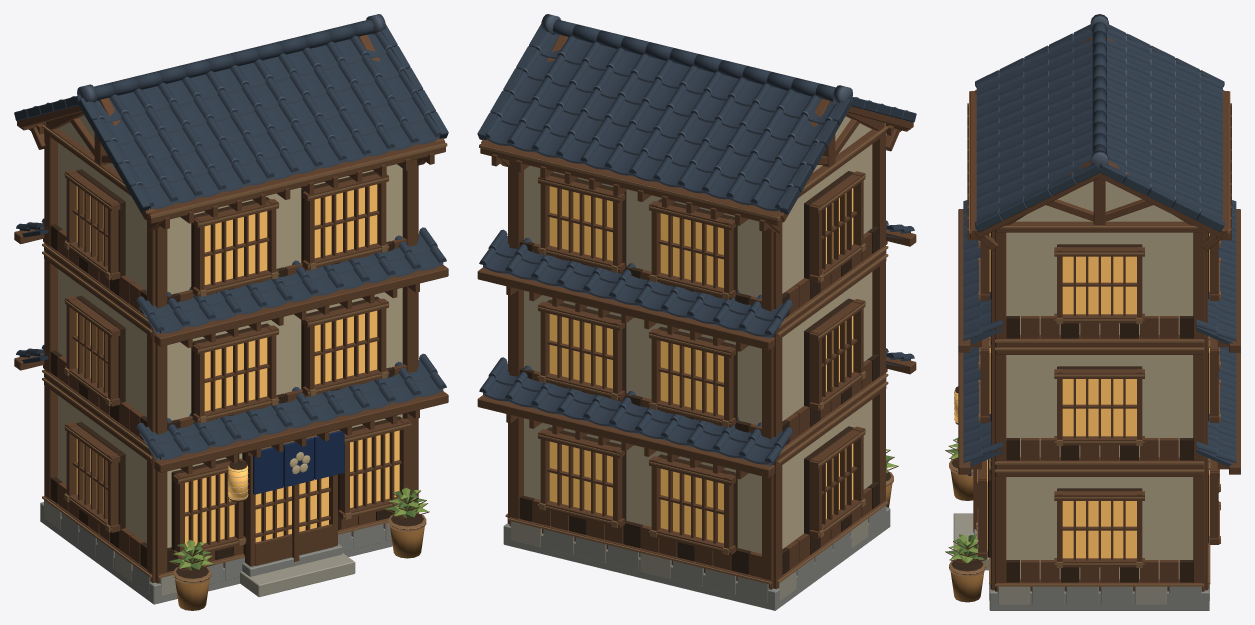
3 views of the same model, side by side, from view 1: azimuth 30°, elevation 25°; view 2: azimuth 150°, elevation 25°; view 3: azimuth 270°, elevation 25° (orthographic). The views are drawn at different scales.
Parts seen in each view (by area): view 1: compact_villa_3_geometry; view 2: compact_villa_3_geometry; view 3: compact_villa_3_geometry.
Boxes of the visible parts, <box> form: compact_villa_3_geometry: <box>14,14,448,610</box>; compact_villa_3_geometry: <box>477,14,916,610</box>; compact_villa_3_geometry: <box>945,14,1240,610</box>.
Bounding box in the file's own units: 0.99 × 1.48 × 0.8579.
